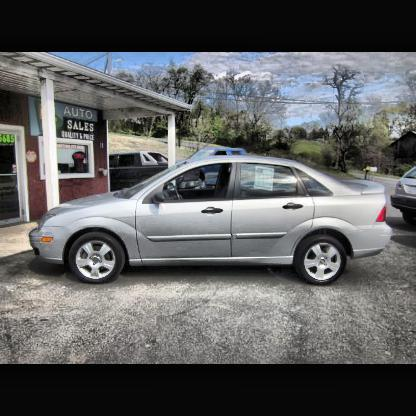Ford Focus Sedan 2007: (29, 158, 393, 286)
